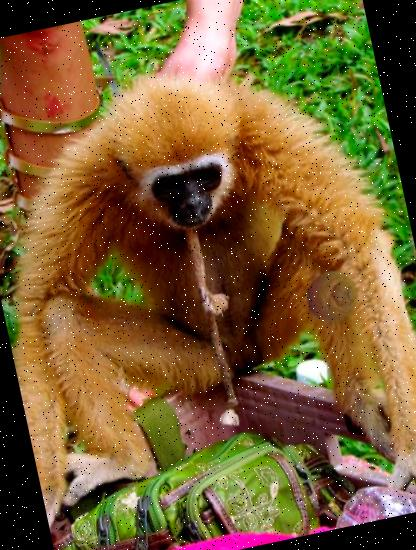Mandarine: (300, 264, 364, 328)
